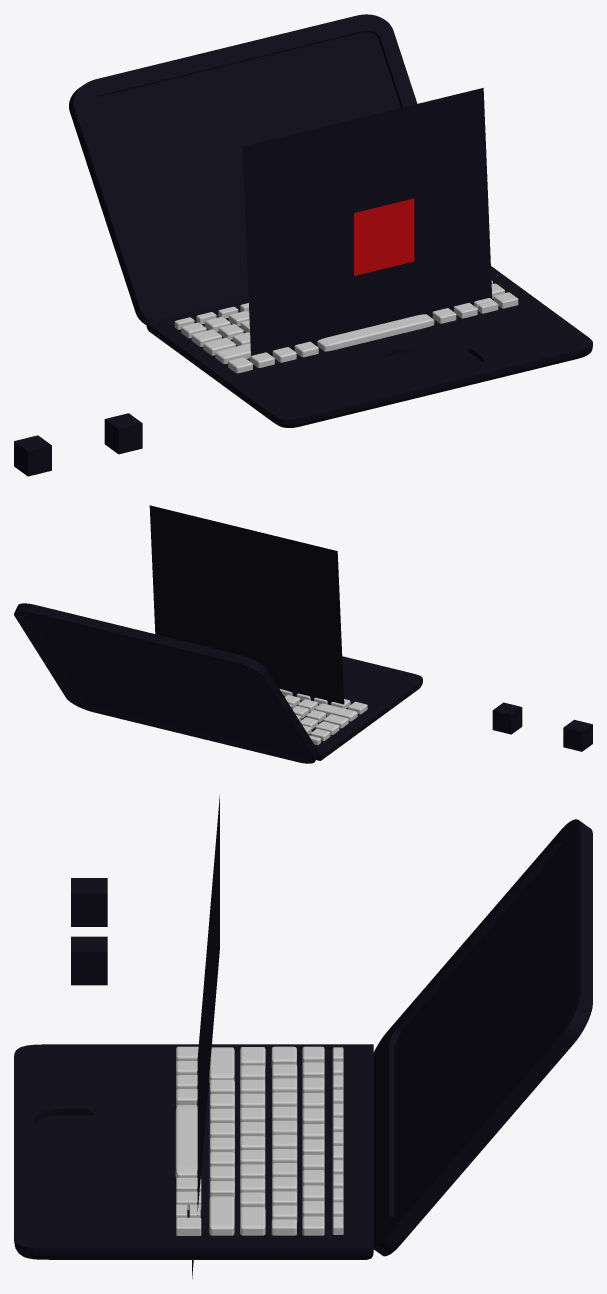
File: rounded_less.obj
3 renders of one model, top to bottom at view 1: azimuth 30°, elevation 25°; view 2: azimuth 150°, elevation 25°; view 3: azimuth 270°, elevation 25°, orthographic. The views are drawn at different scales.
Parts seen in each view (by area): view 1: Cube.025, Plane, Cube.020, FirstText, Cube.007, Cube.023, Cube.024, Cube.006, Cube.001; view 2: Plane, Cube.025, Cube.020, Cube.023, Cube.024, Cube.006, Cube.011; view 3: Cube.020, Cube.025, Cube.001, Cube.012, Plane, Cube.004, Cube.005, Cube.003, Cube.023, Cube.024, Cube.007, Cube.006 (+4 smaller).
Part boxes in pixels (x1,y1,x2,y2): Cube.025: [69, 14, 417, 325]; Plane: [242, 88, 492, 356]; Cube.020: [146, 266, 592, 427]; FirstText: [354, 198, 414, 275]; Cube.007: [317, 314, 434, 351]; Cube.023: [104, 413, 142, 454]; Cube.024: [14, 435, 51, 476]; Cube.006: [228, 341, 318, 373]; Cube.001: [181, 311, 249, 338]; Plane: [149, 505, 344, 704]; Cube.025: [14, 603, 318, 763]; Cube.020: [284, 656, 422, 760]; Cube.023: [492, 702, 522, 734]; Cube.024: [563, 719, 592, 751]; Cube.006: [296, 693, 367, 714]; Cube.011: [314, 703, 357, 721]; Cube.020: [14, 1044, 373, 1259]; Cube.025: [373, 819, 592, 1256]; Cube.001: [302, 1046, 324, 1235]; Cube.012: [272, 1064, 297, 1222]; Plane: [192, 795, 219, 1278]; Cube.004: [240, 1065, 265, 1209]; Cube.005: [209, 1079, 234, 1198]; Cube.003: [332, 1047, 343, 1234]; Cube.023: [71, 936, 107, 985]; Cube.024: [71, 878, 107, 926]; Cube.007: [175, 1105, 200, 1178]; Cube.006: [176, 1046, 198, 1106].
Bounding box in the file's own units: 4.57 × 1.99 × 3.15.
